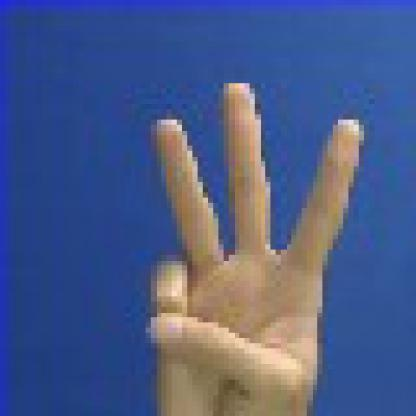three: (132, 65, 376, 416)
